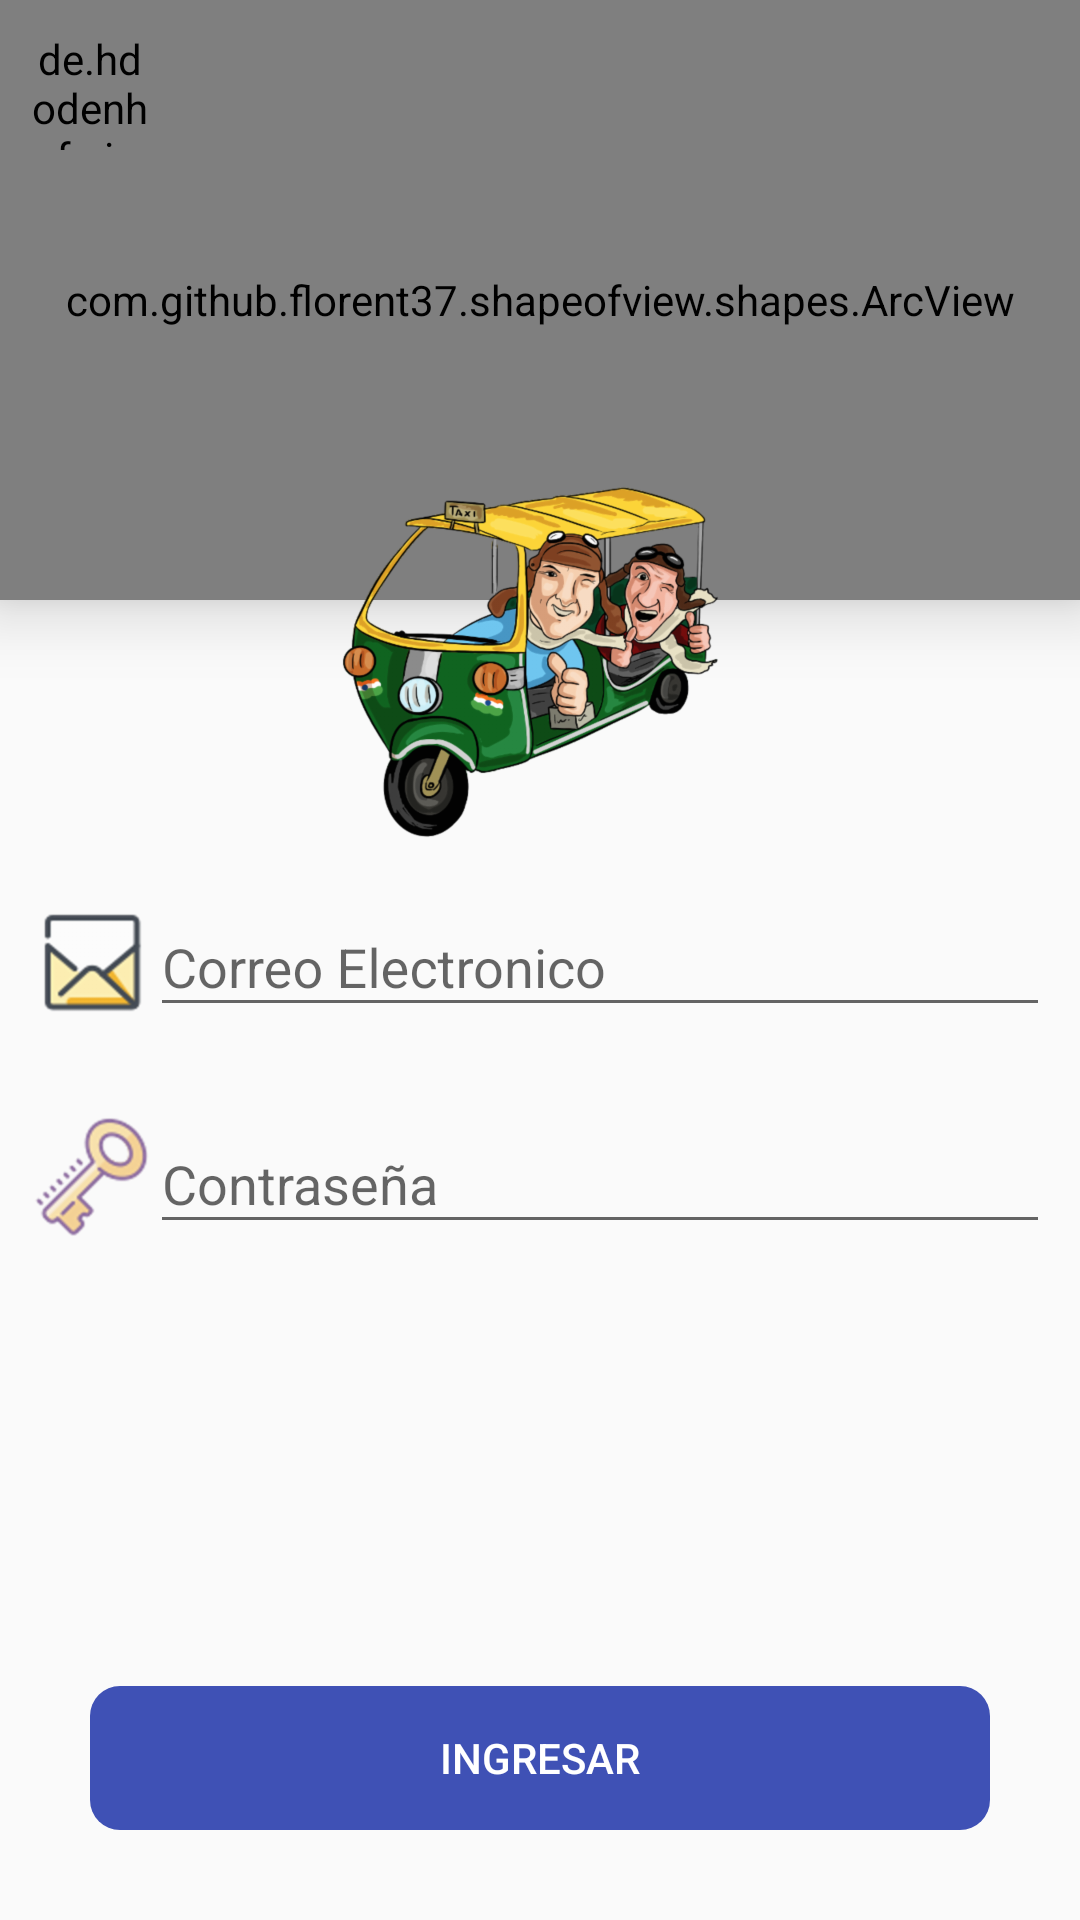

Locate icon controls on the screen. Image size 1080 × 1920, boxes as (x1, y1, x2, y2).
password: (36, 1118, 147, 1236)
